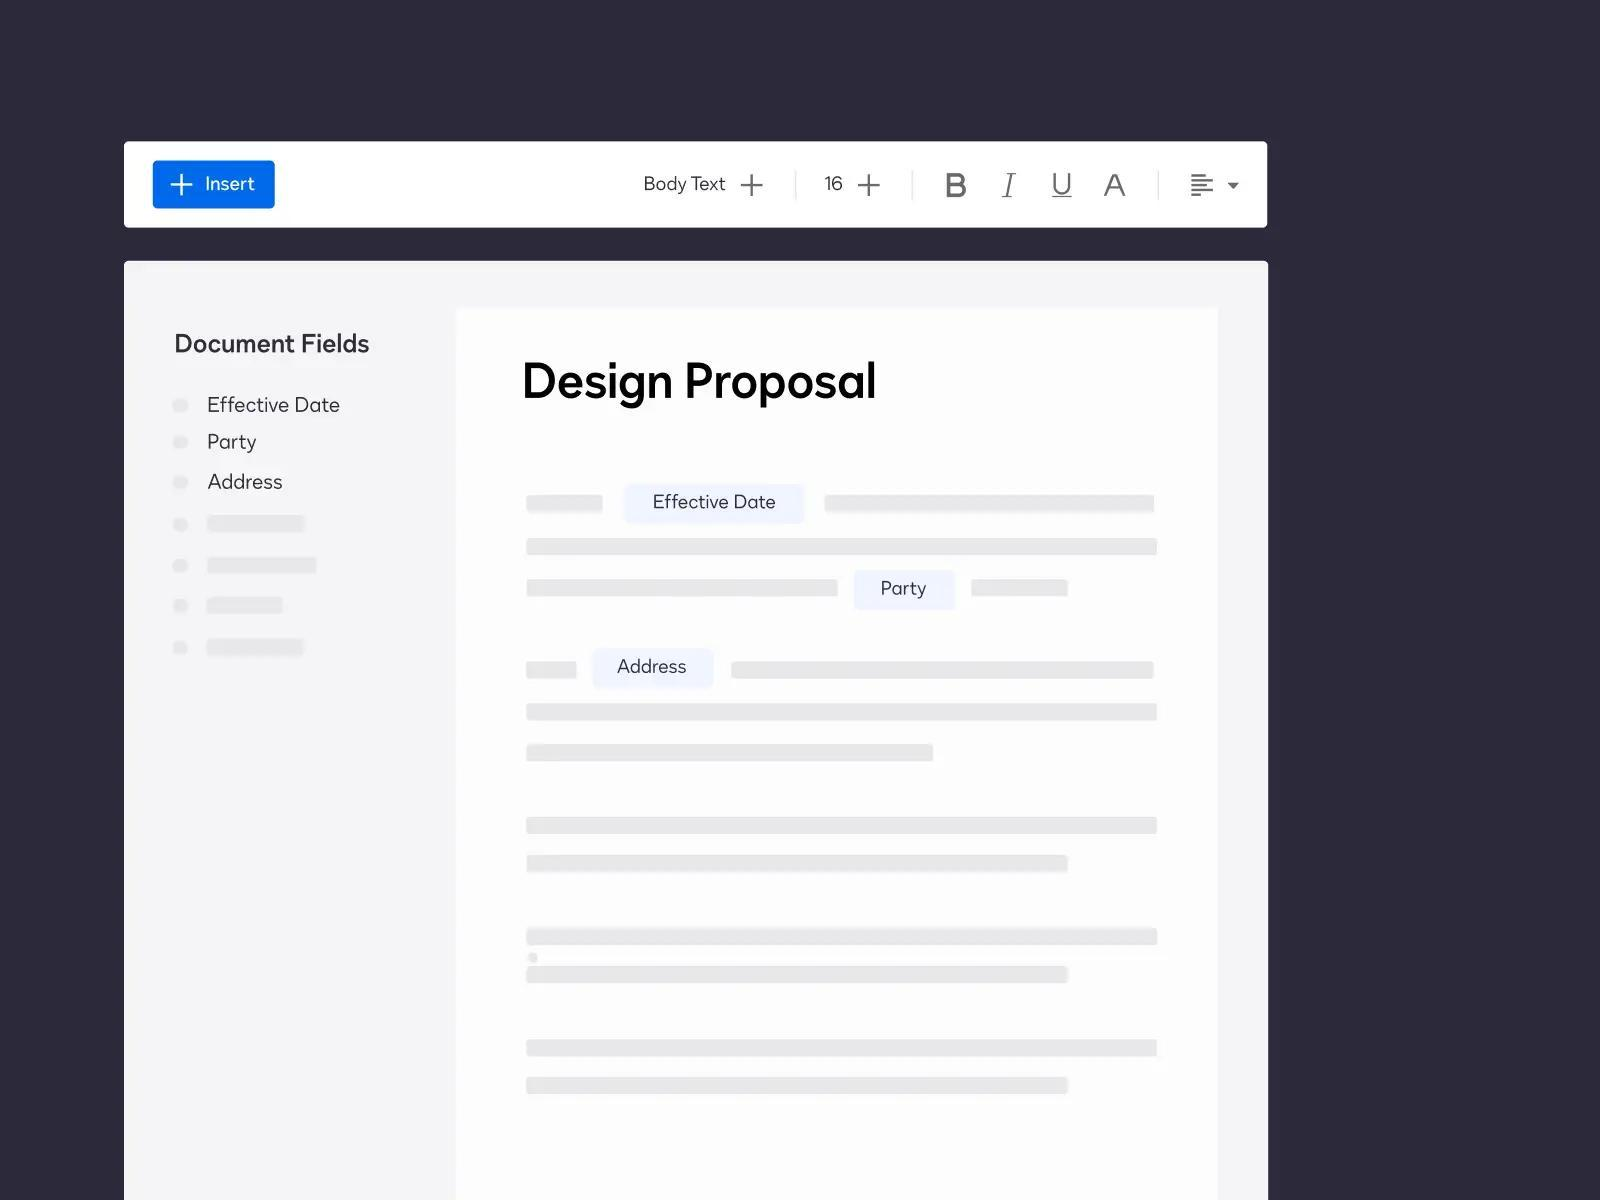button: (627, 487, 805, 526), (150, 160, 276, 211), (585, 648, 712, 695), (863, 571, 956, 615)
icon: (936, 169, 976, 205), (1036, 171, 1082, 202), (1094, 175, 1133, 204), (857, 173, 891, 203), (1000, 169, 1026, 205), (1188, 171, 1216, 204), (741, 171, 766, 200), (1222, 174, 1245, 197)
label: (639, 171, 731, 200)
